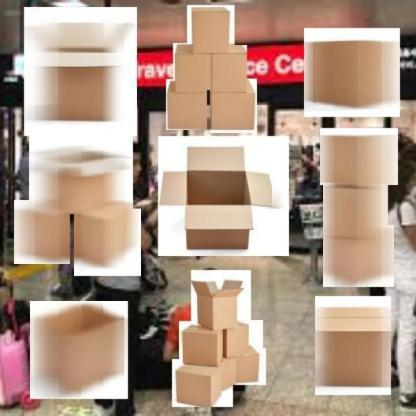-: (156, 135, 292, 258), (23, 6, 139, 139), (29, 300, 130, 401), (28, 129, 136, 216), (304, 27, 402, 119), (315, 295, 393, 398), (73, 208, 143, 278), (319, 127, 400, 187), (323, 174, 389, 245), (323, 225, 395, 289), (190, 269, 253, 335), (13, 200, 72, 266), (172, 359, 235, 408), (210, 78, 258, 135), (187, 4, 236, 55), (165, 79, 209, 132), (179, 321, 228, 365), (173, 43, 211, 92), (223, 347, 267, 387), (220, 320, 264, 358), (210, 45, 248, 89)
